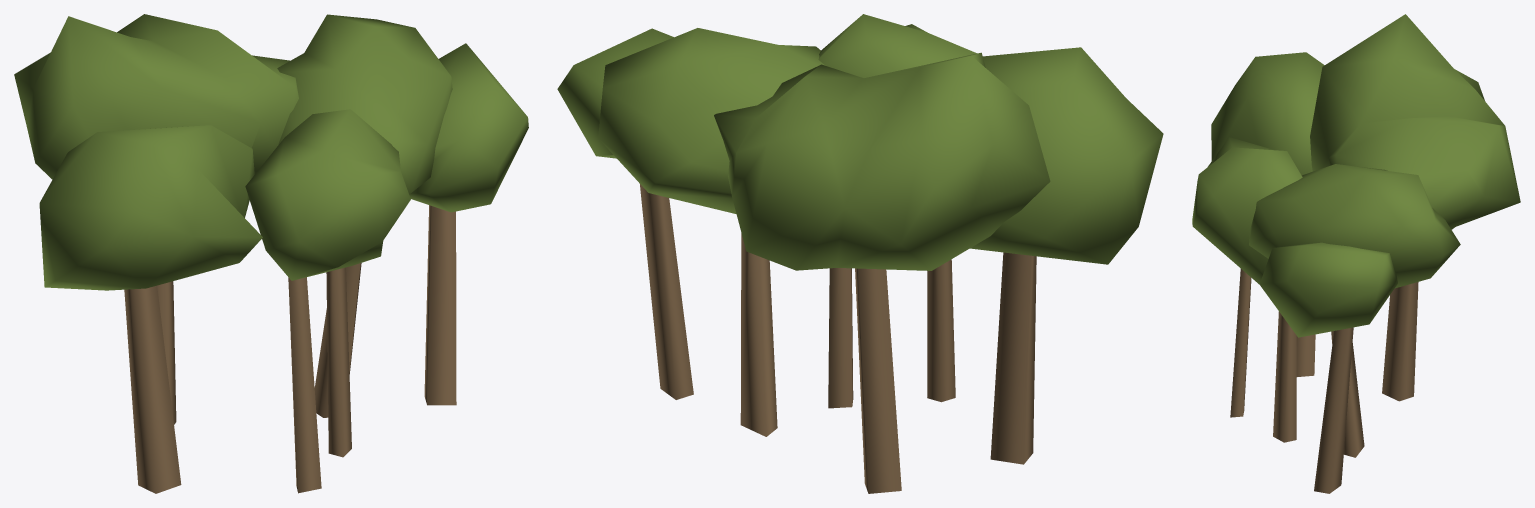
File: rpgpp_ag_trees_background_01a.fbx
3 renders of one model, left to right at view 1: azimuth 30°, elevation 25°; view 2: azimuth 150°, elevation 25°; view 3: azimuth 270°, elevation 25°, orthographic. The views are drawn at different scales.
Parts seen in each view (by area): view 1: rpgpp_ag_trees_background_01a; view 2: rpgpp_ag_trees_background_01a; view 3: rpgpp_ag_trees_background_01a.
Part boxes in pixels (bbox=[...]): rpgpp_ag_trees_background_01a: bbox=[14, 14, 528, 493]; rpgpp_ag_trees_background_01a: bbox=[557, 14, 1163, 493]; rpgpp_ag_trees_background_01a: bbox=[1192, 14, 1520, 493].
Bounding box in the file's own units: 8.32 × 6.88 × 5.91.
